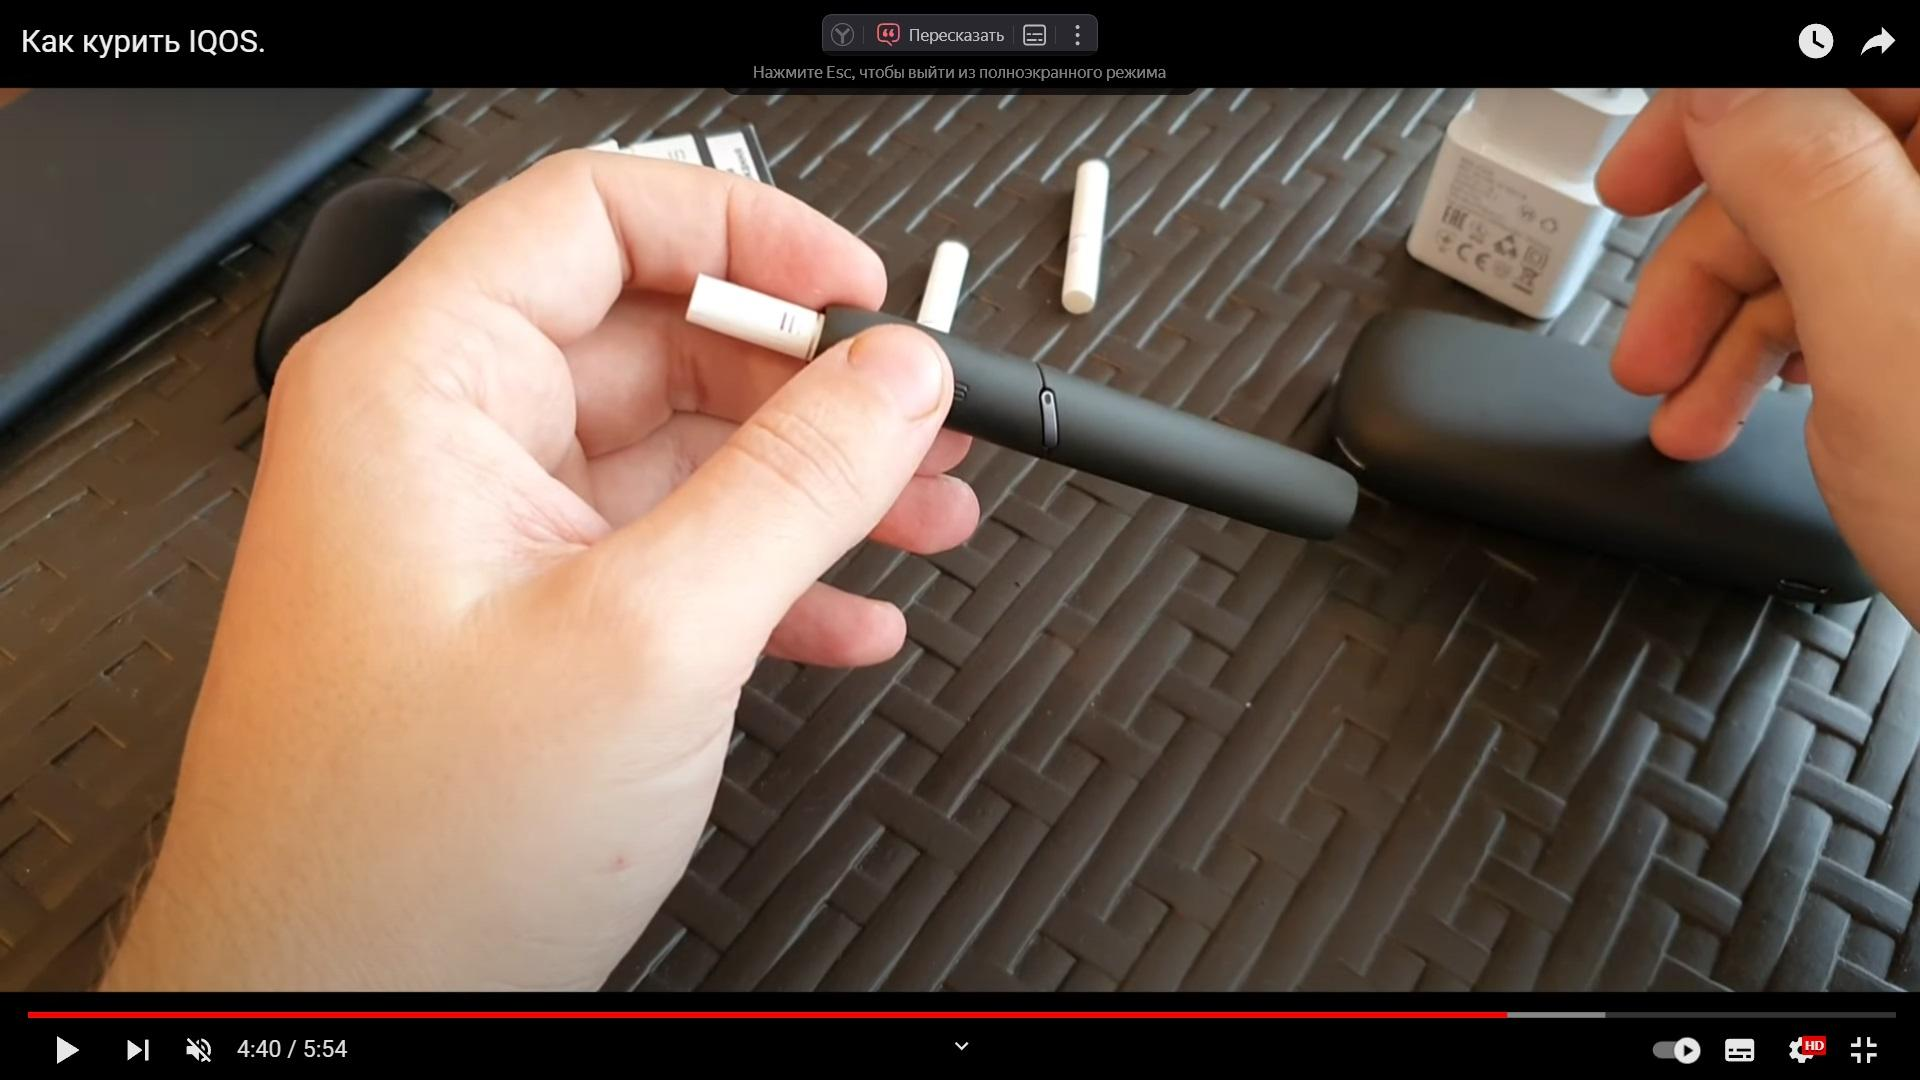iqos: (683, 272, 1358, 542)
